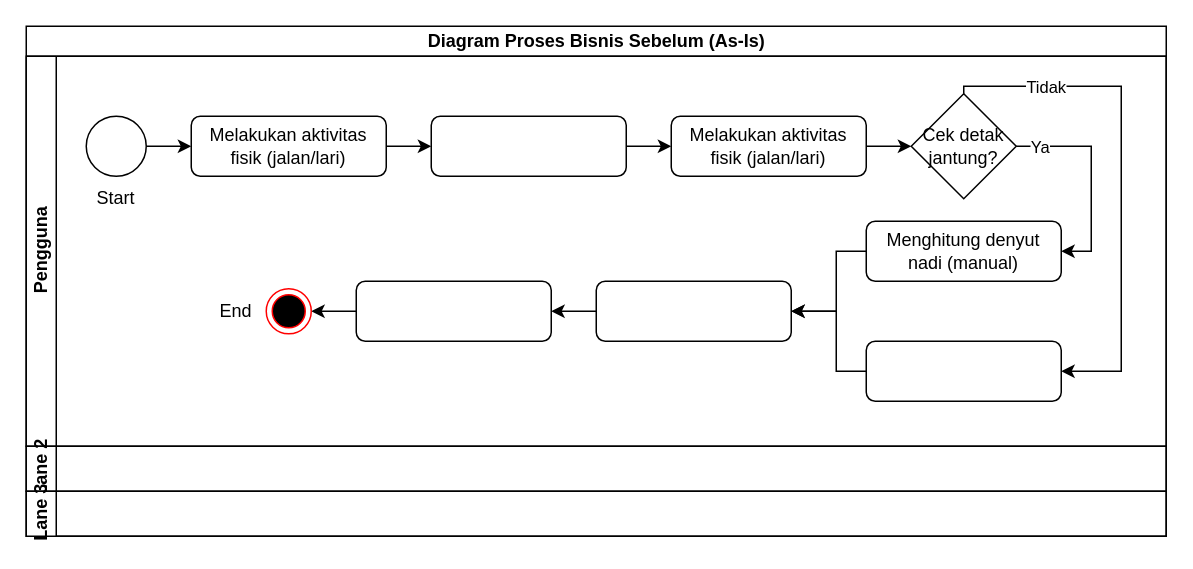
Some shapes in this 1193 by 569 pixel diagram are drawn without their labels. Here are the shapes that lost their labels. From the top down, the centre of each, then its label:
At (x=528, y=145): "Mengecek waktu/durasi dengan jam biasa".
At (x=453, y=310): "Mengevaluasi kondisi kesehatan (manual)".
At (x=693, y=310): "Mencatat durasi & detak jantung (manual)".
At (x=963, y=370): "Mengakhiri sesi olahraga".
